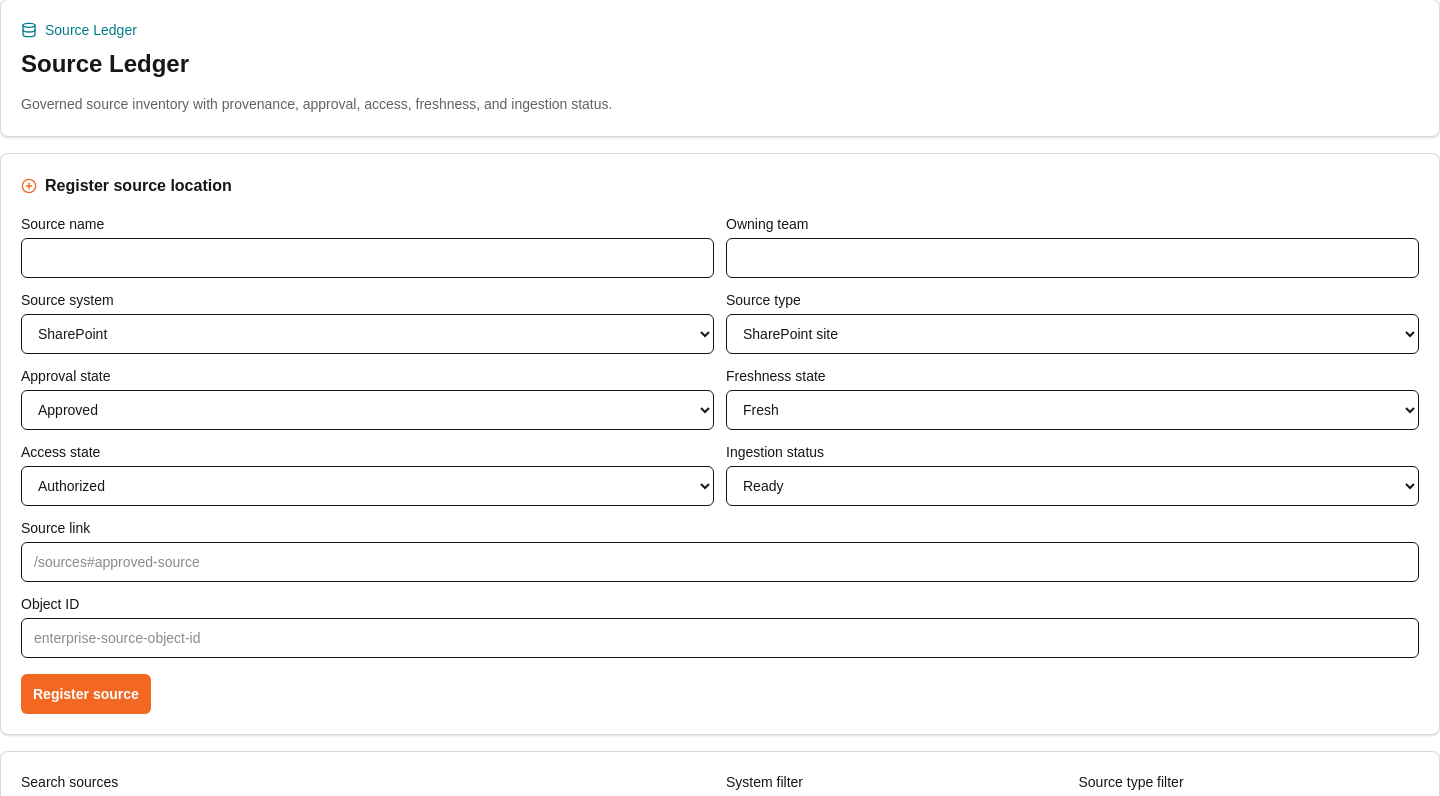
Scenario: SourceLedgerPanel › does not update a different source system that happens to share a location key
Type "Shared Salesforce source" into the field labelled "Source name".
click(368, 258); type("Shared Salesforce source")  # box [21,238,714,278]
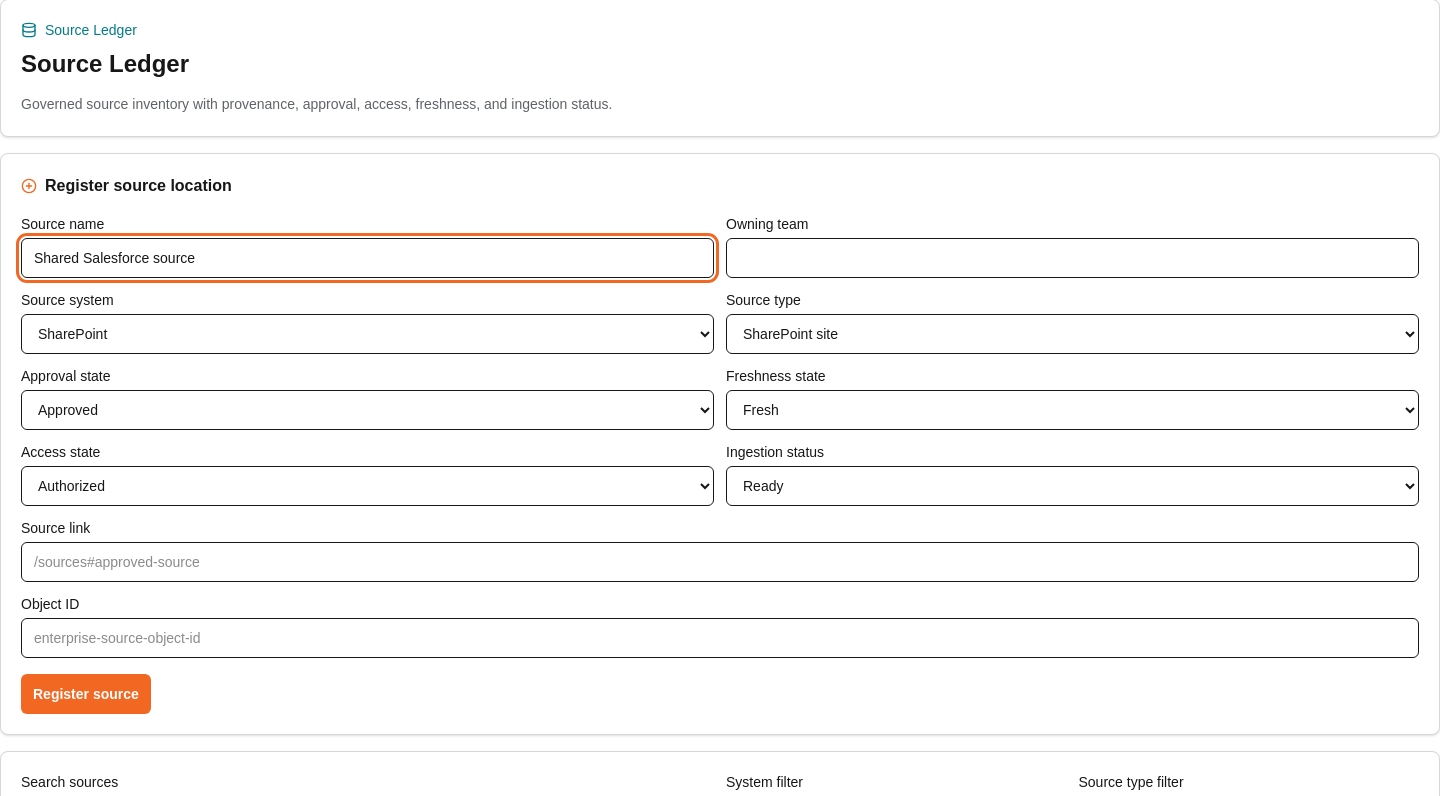
Type "Sales Operations" into the field labelled "Owning team".
click(1072, 258); type("Sales Operations")  # box [726,238,1419,278]
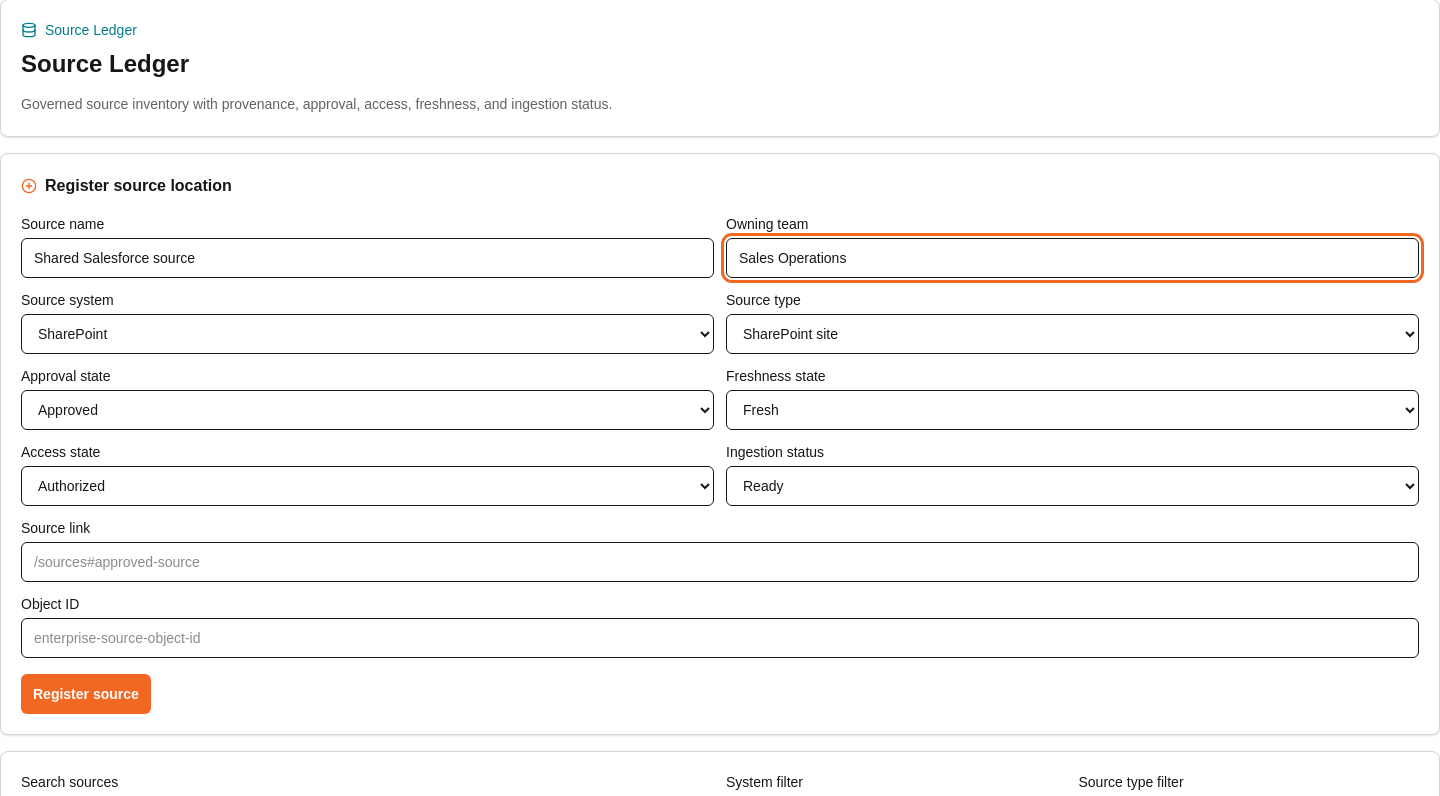
Type "shared-enterprise-object" into the field labelled "Object ID".
click(720, 638); type("shared-enterprise-object")  # box [21,618,1419,658]
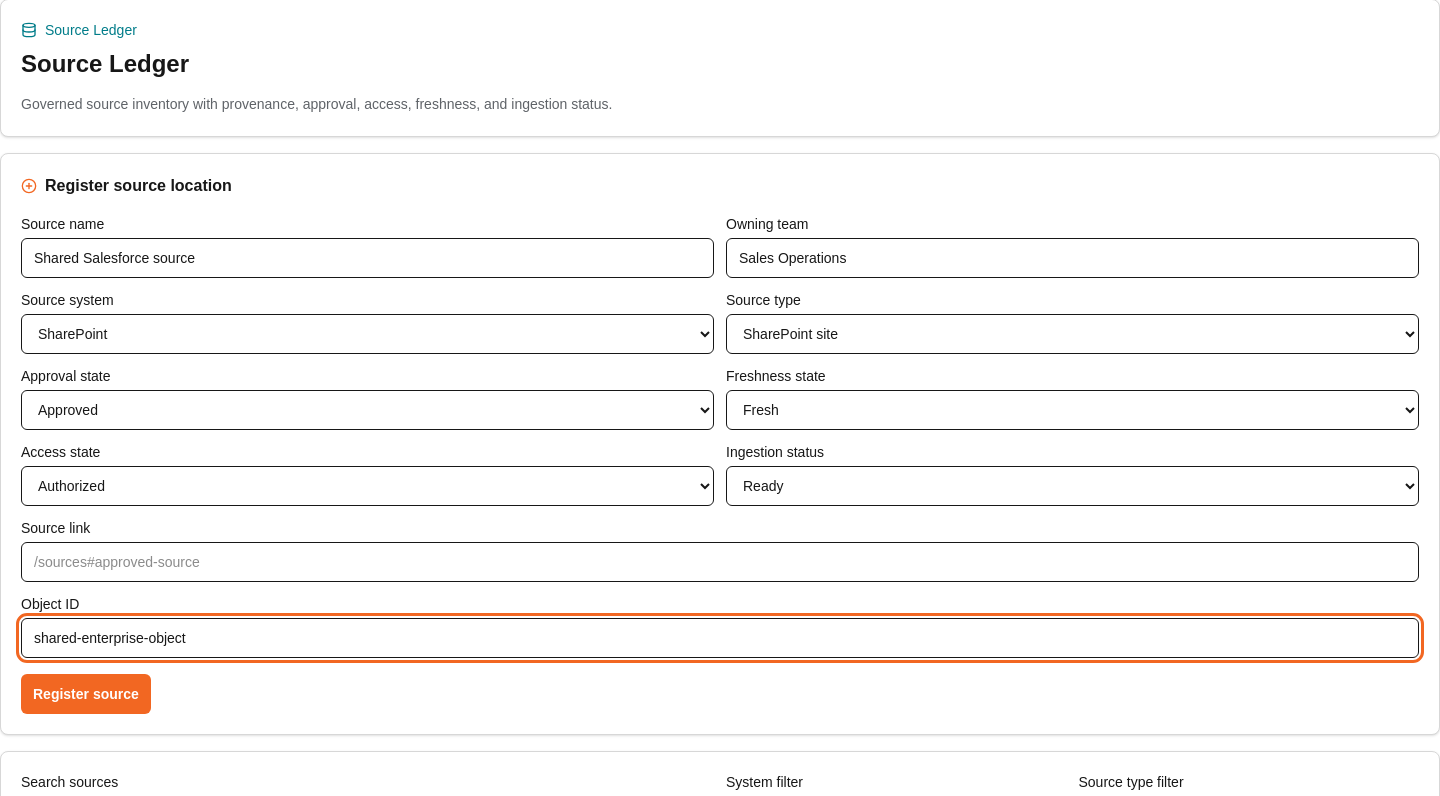
Select "ECRM/Salesforce" in the dropdown labelled "Source system" at (368, 334), box [21,314,714,354]
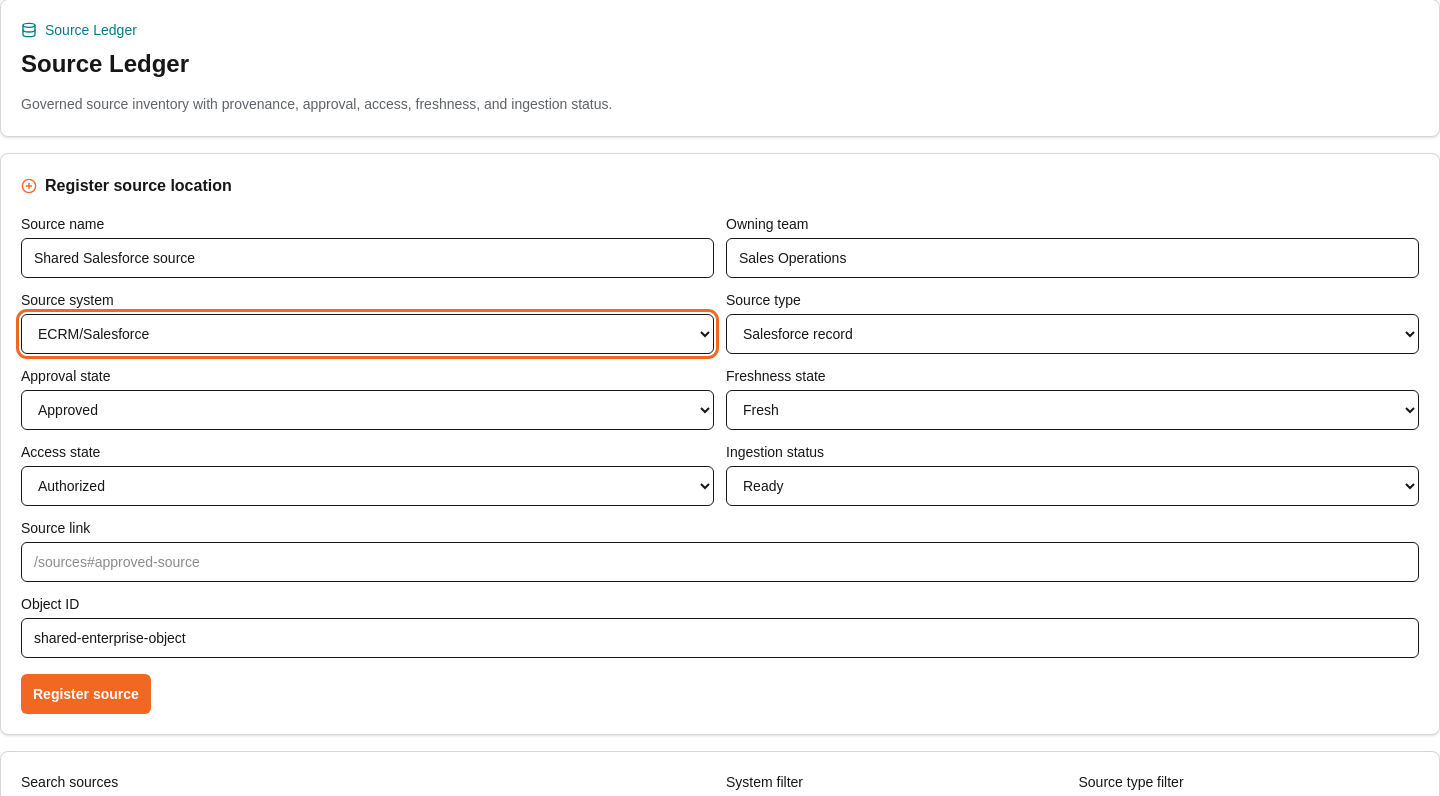
Click the button "Register source".
click(86, 694)  # box [21,674,151,714]
(page scrolled)
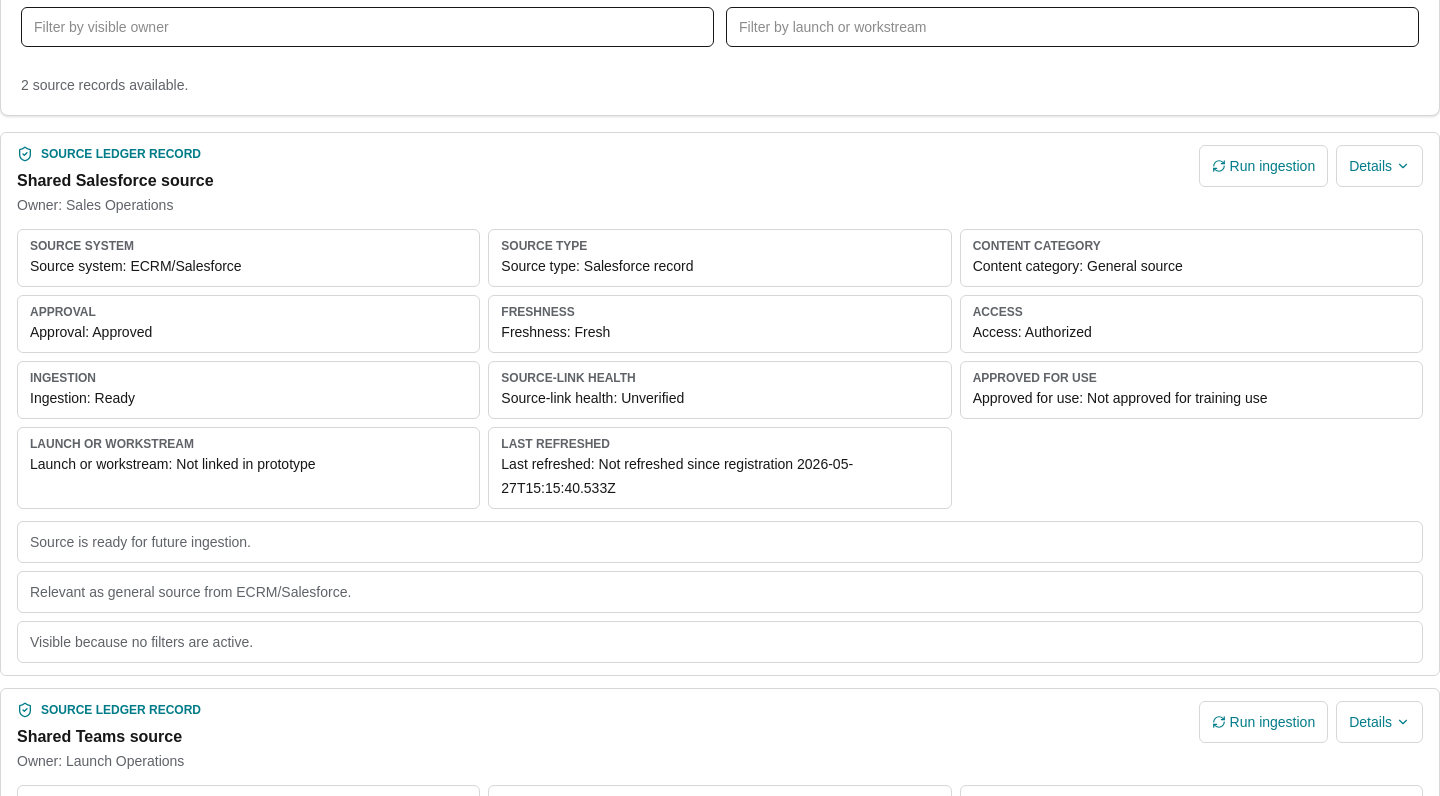
Result: the element "Shared Salesforce source" is shown
